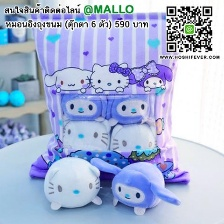snack: (18, 4, 196, 219)
